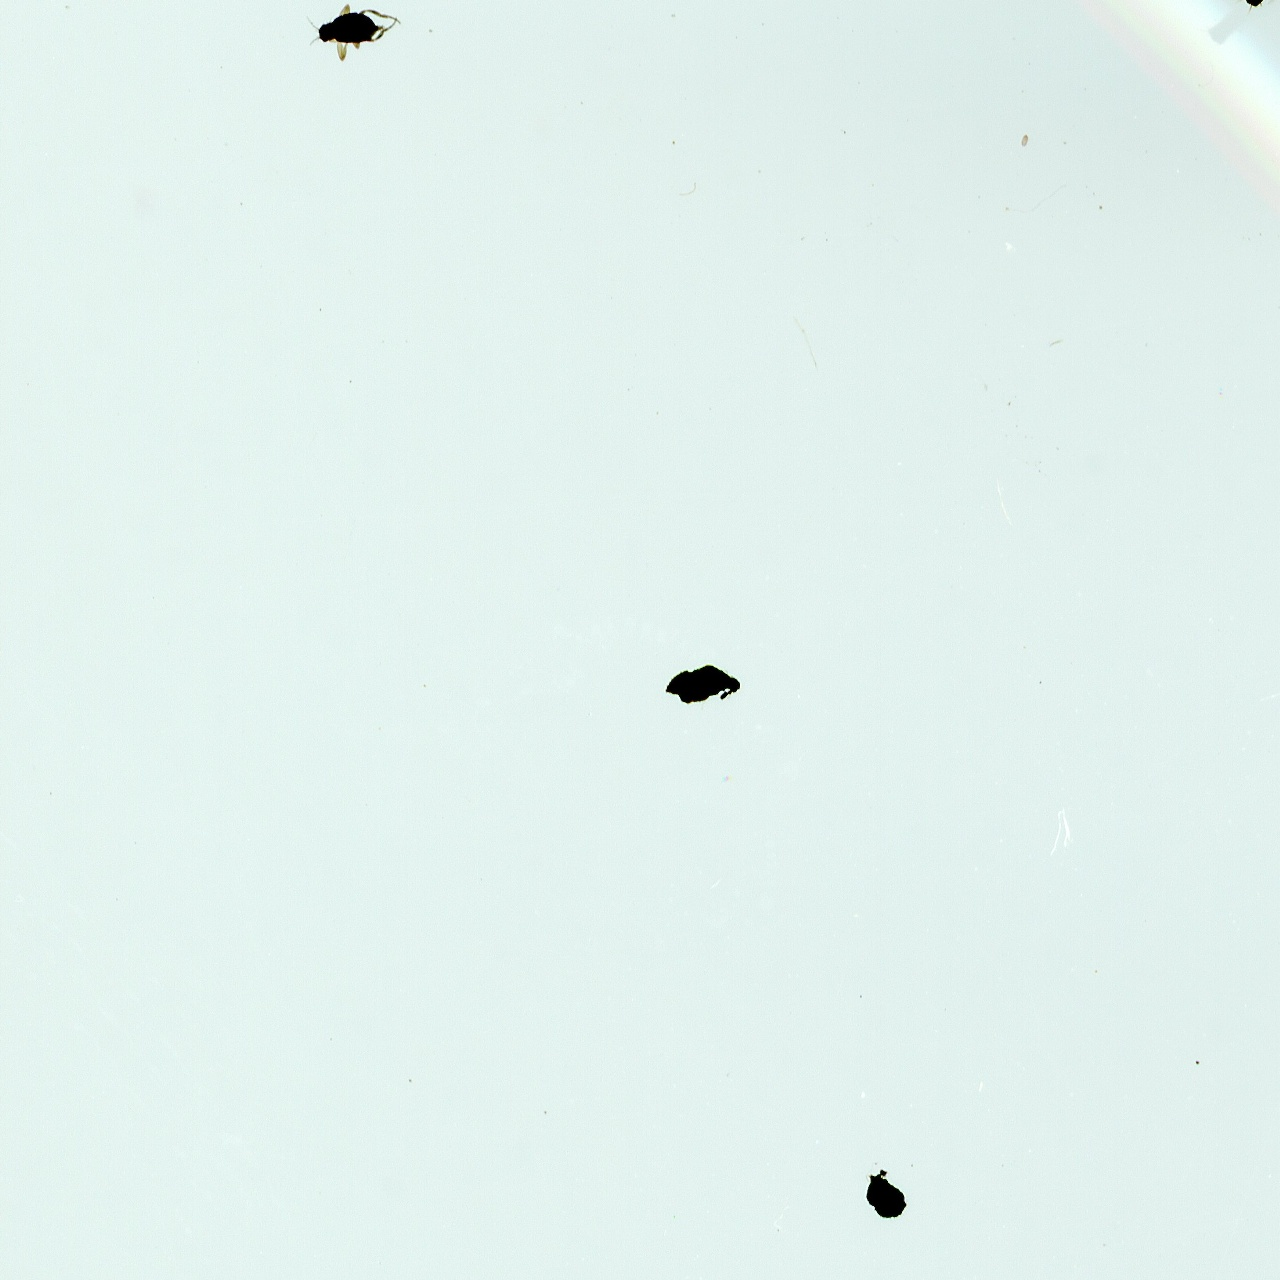arthropod: (982, 0, 1280, 281), (300, 1, 404, 62)
